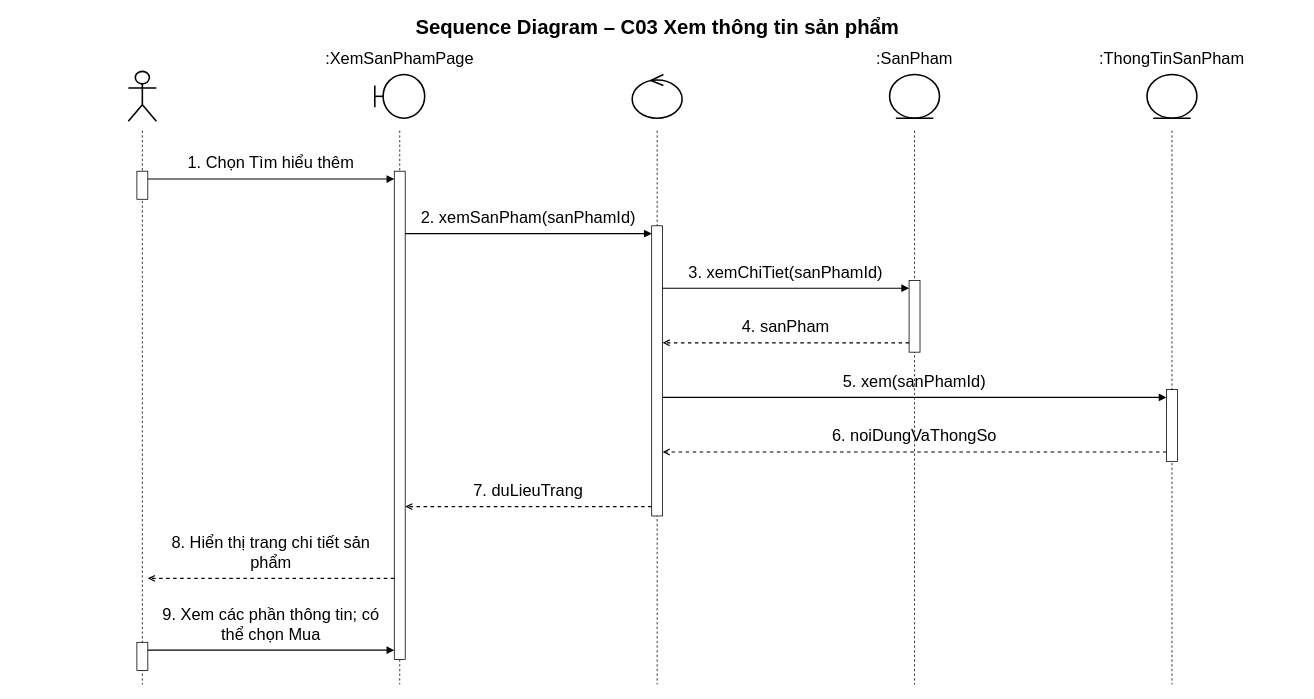
The diagram is 1314 pixels wide and 699 high, and some of its shapes have lost their labels. The shapes that lost their labels are listed below. From the top down, each one's centre as x and y in pixels, then its label:
At point 142,96: ":Khách hàng".
At point 656,96: ":XemSanPhamController".
